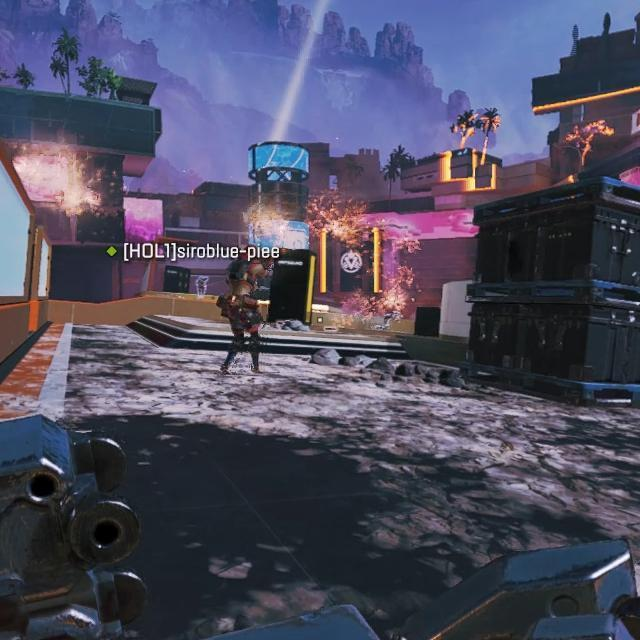avatar: (221, 259, 266, 371)
